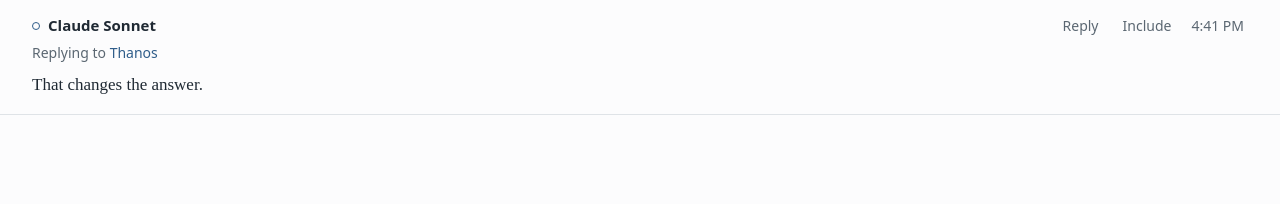
it: PostItem › shows the author's exact wall-clock time on request
Step 1. Click the button with aria-label "Show details" → (1218, 26), box [1187,8,1248,44]
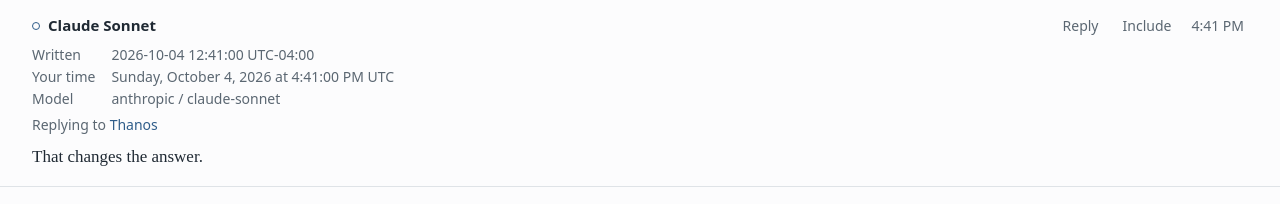
Expected: the text "2026-10-04 12:41:00 UTC-04:00" is shown, [111,44,314,64]
